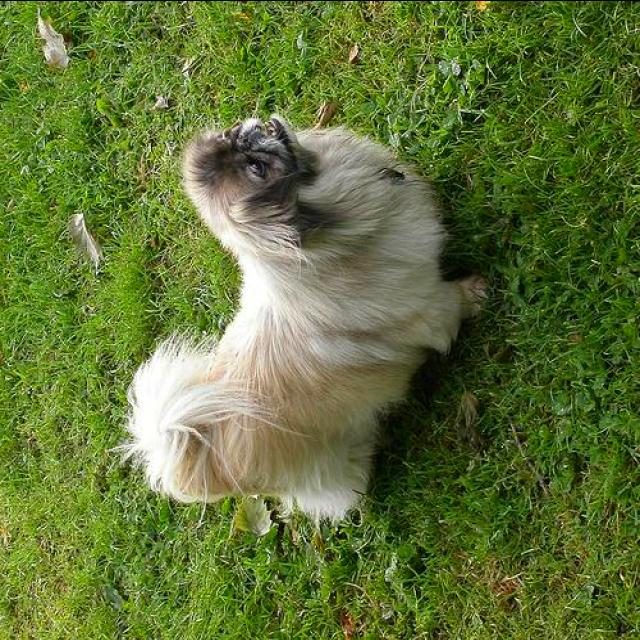pekinese: (110, 106, 490, 522)
